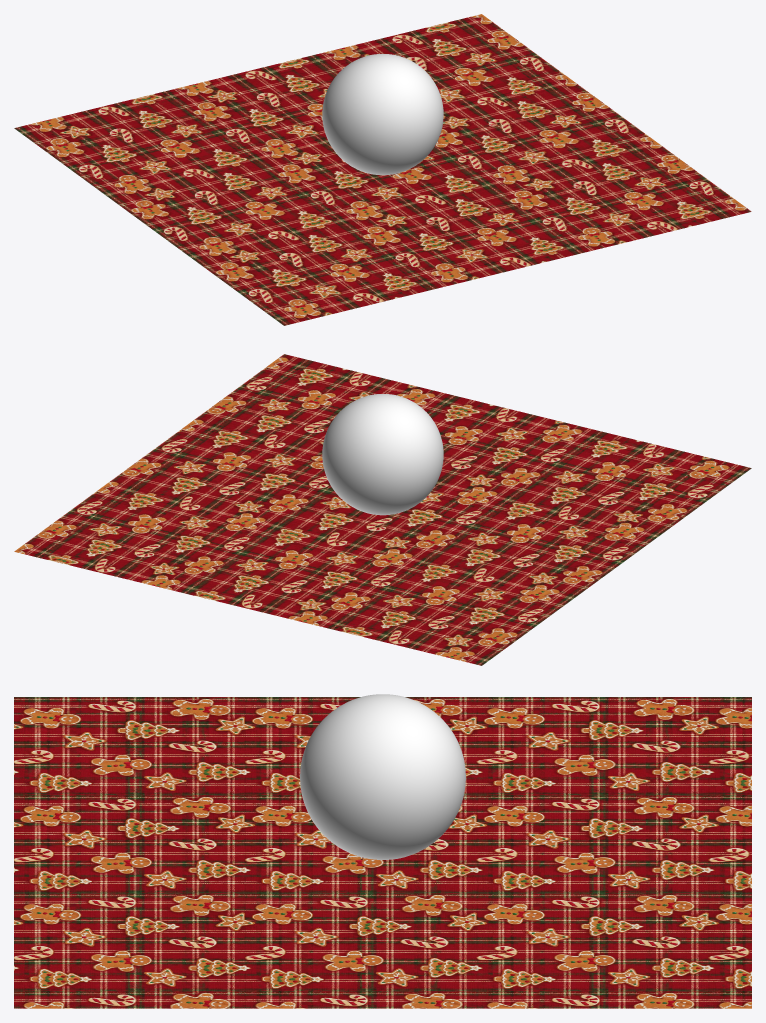
Rendered from GiftWrap.glb.
The picture shows the model from 3 angles, top to bottom: view 1: azimuth 30°, elevation 25°; view 2: azimuth 150°, elevation 25°; view 3: azimuth 270°, elevation 25°; orthographic projection. The views are drawn at different scales.
Visible parts, largest first — view 1: WrapPaper, BathBomb; view 2: WrapPaper, BathBomb; view 3: WrapPaper, BathBomb.
Part boxes in pixels (x1,y1,x2,y2): WrapPaper: (14,14,751,325); BathBomb: (322,54,443,175); WrapPaper: (14,354,751,665); BathBomb: (322,394,443,515); WrapPaper: (14,697,751,1008); BathBomb: (300,694,465,859).
Size of the model in its own units: 0.4 by 0.0903 by 0.4.
Materials: 2 (1 with a texture image).
